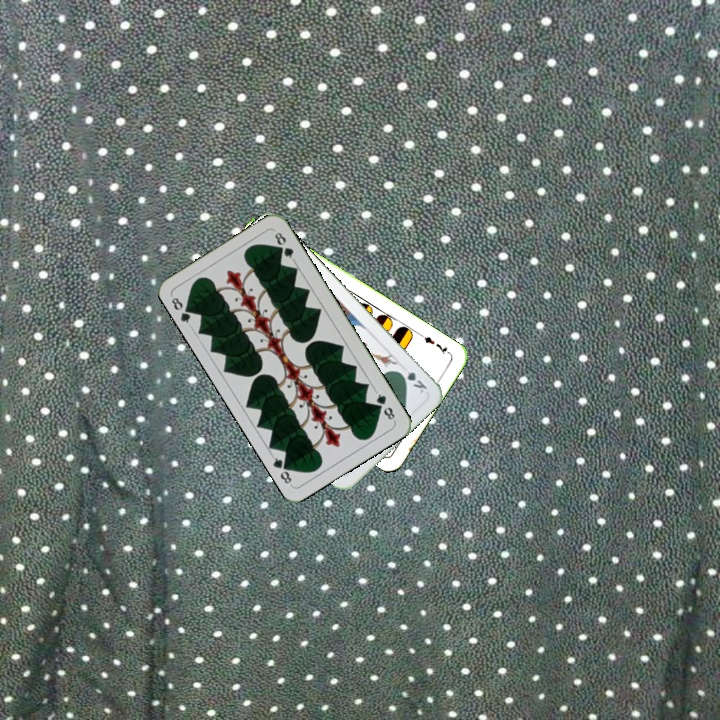E7: (417, 331, 453, 357)
G8: (167, 293, 196, 329), (371, 387, 398, 424)
GK: (394, 365, 430, 396)
